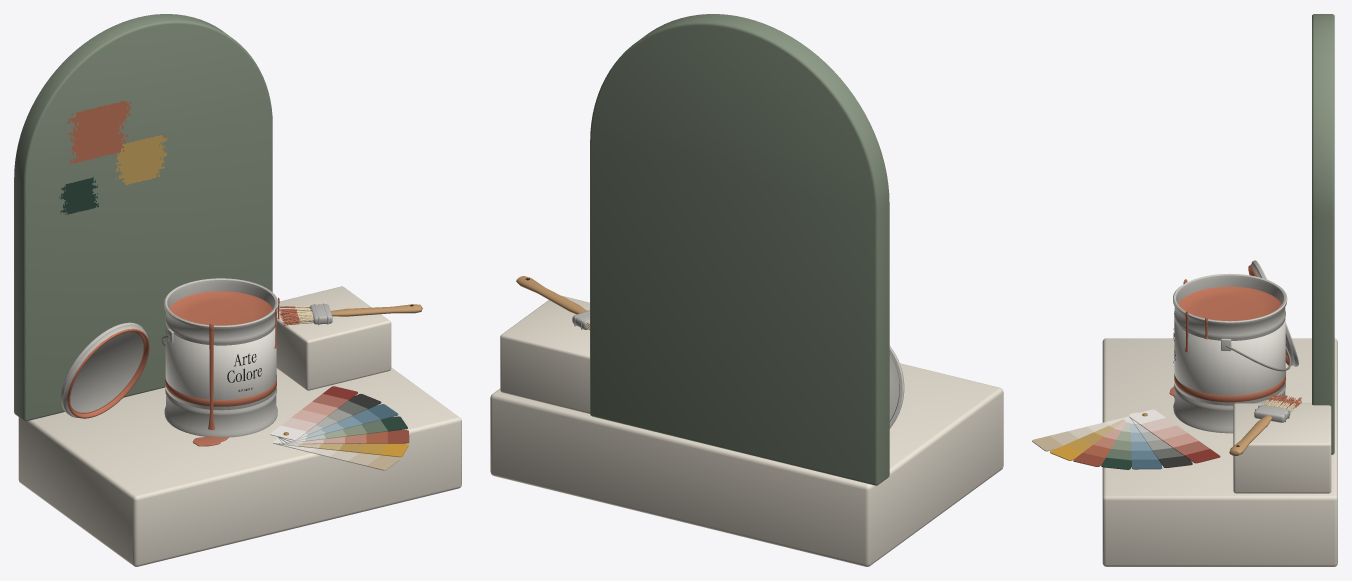
File: hero.glb
3 views of the same model, side by side, from view 1: azimuth 30°, elevation 25°; view 2: azimuth 150°, elevation 25°; view 3: azimuth 270°, elevation 25° (orthographic). The views are drawn at different scales.
Visible parts, largest first — view 1: Arch, Plinth, Step, TinBody, TinLabel, Lid, PatchTerracotta, TinPaint, PatchOchre, Card_6, LidPaint, Card_0 (+9 smaller); view 2: Arch, Plinth, Step, Lid, BrushHandle; view 3: Plinth, Arch, Step, TinLabel, TinBody, TinPaint, Card_6, Card_5, Card_4, Card_0, Card_3, Card_2 (+6 smaller).
Part boxes in pixels (x1,y1,x2,y2): Arch: (14, 14, 272, 421); Plinth: (18, 367, 461, 566); Step: (276, 286, 391, 390); TinBody: (164, 278, 278, 437); TinLabel: (165, 322, 276, 410); Lid: (61, 322, 147, 417); PatchTerracotta: (67, 100, 130, 164); TinPaint: (169, 291, 272, 325); PatchOchre: (115, 135, 167, 185); Card_6: (270, 386, 357, 440); LidPaint: (67, 328, 149, 418); Card_0: (273, 438, 399, 470); Arch: (590, 14, 889, 485); Plinth: (490, 363, 1003, 566); Step: (500, 295, 589, 413); Lid: (889, 346, 904, 428); BrushHandle: (516, 276, 586, 314); Plinth: (1102, 338, 1337, 566); Arch: (1312, 14, 1334, 454); Step: (1233, 403, 1331, 493); TinLabel: (1174, 317, 1285, 405); TinBody: (1173, 273, 1287, 433); TinPaint: (1178, 286, 1281, 320); Card_6: (1129, 409, 1220, 463); Card_5: (1129, 413, 1192, 467); Card_4: (1130, 413, 1162, 469); Card_0: (1032, 416, 1128, 451); Card_3: (1101, 413, 1136, 469); Card_2: (1073, 412, 1137, 466).
Bounding box in the file's own units: 0.6348 × 0.74 × 0.4678.
